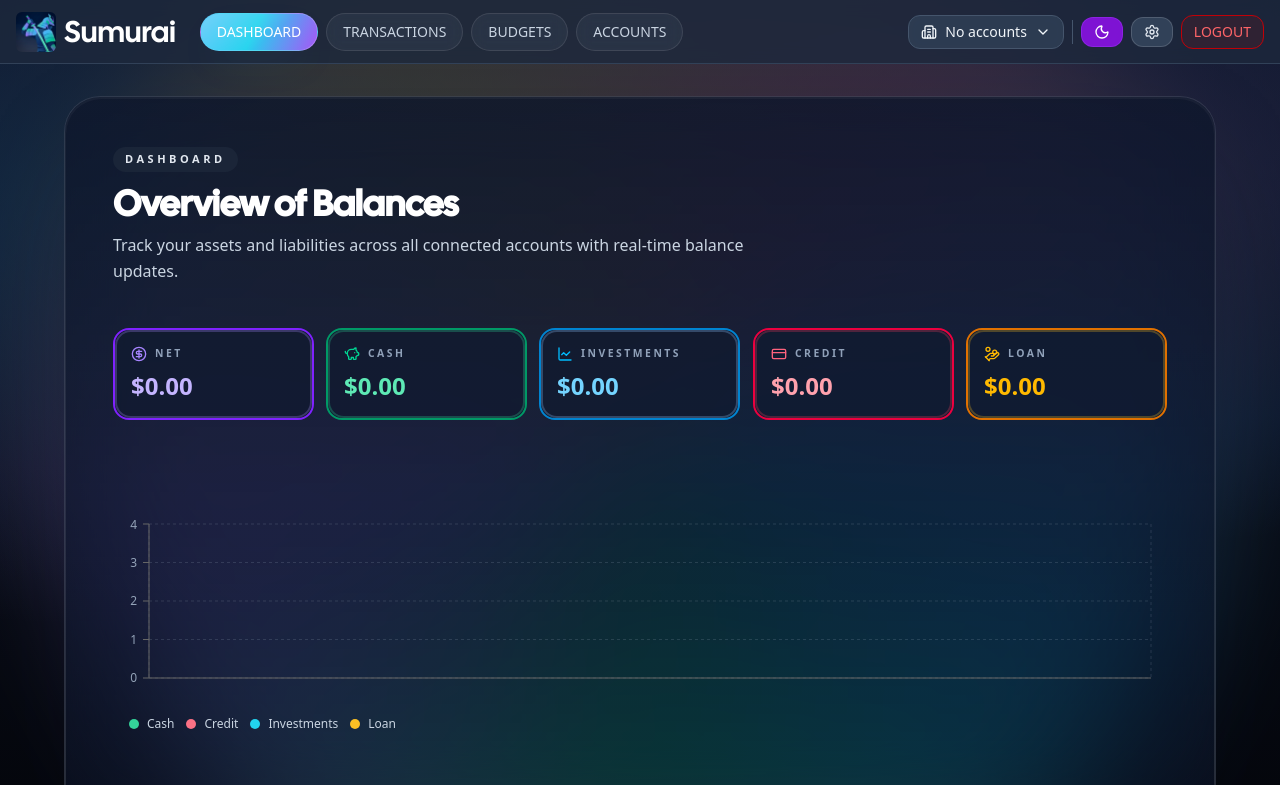
Test case: User-Friendly Error Messages and Empty States (Boundary Mocks) › User Actions and Recovery › allows retry on network errors for transactions
The image size is (1280, 785).
Step 1. Click the button "Transactions" → (395, 32), box [326, 13, 463, 51]
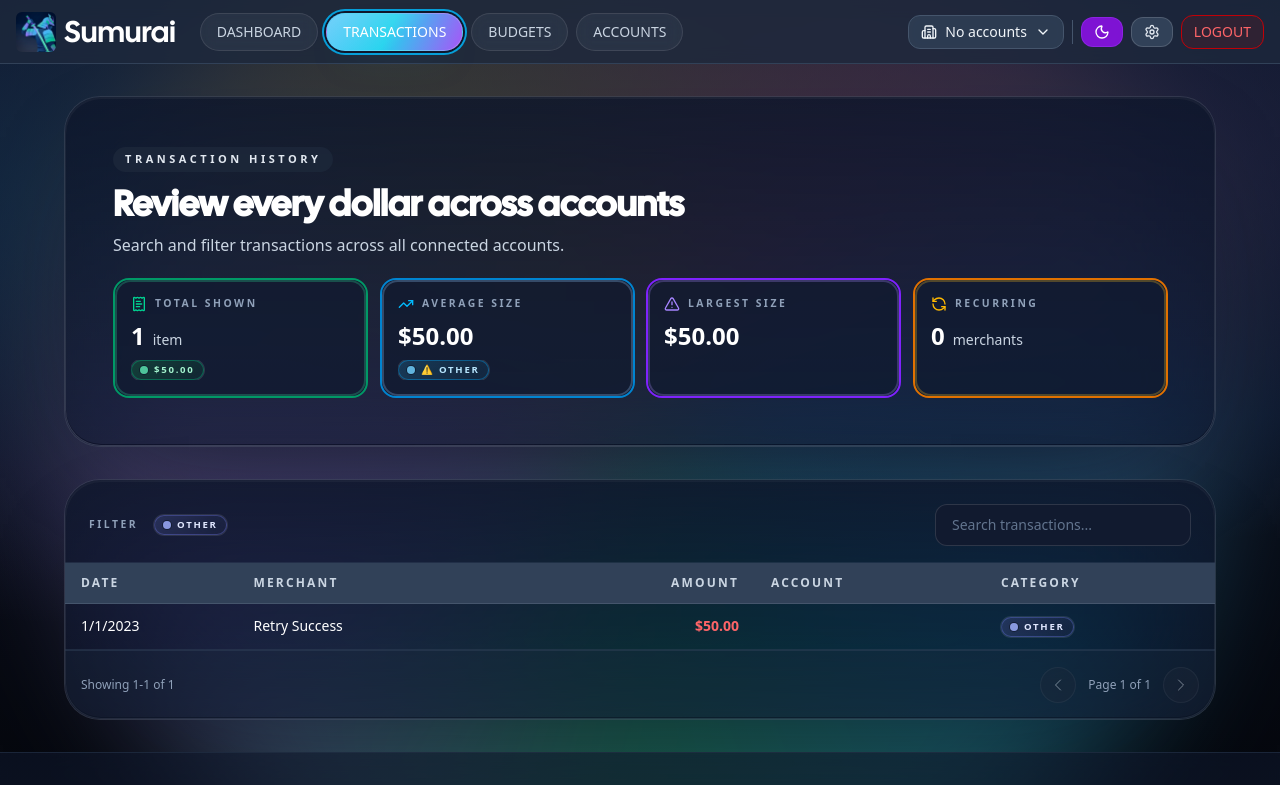
Now the text "Retry Success" is shown, box [254, 616, 343, 635]
